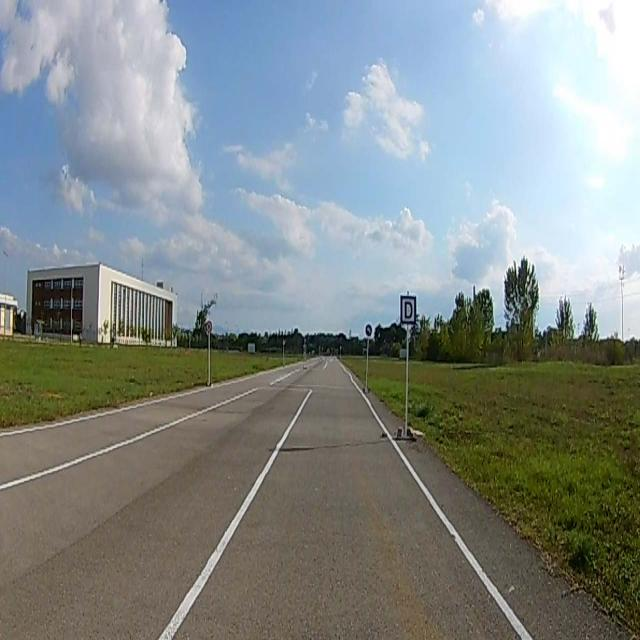durak: (400, 296, 416, 323)
